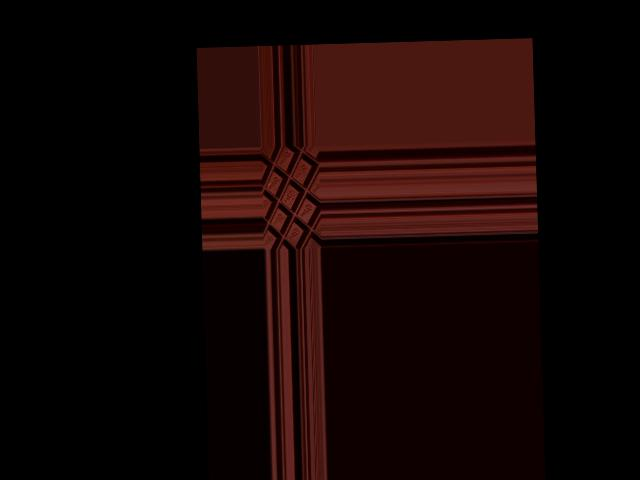chocolate: (262, 145, 322, 247)
